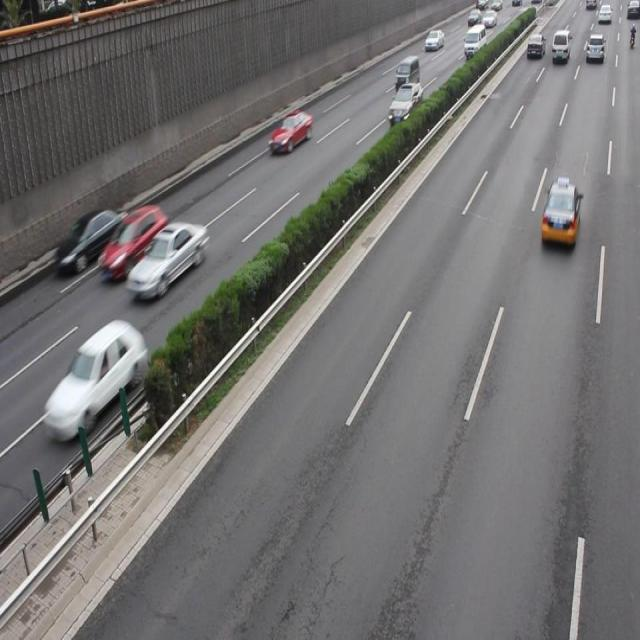car: (44, 322, 146, 442), (125, 220, 208, 299), (97, 203, 166, 284), (53, 207, 128, 275), (539, 180, 580, 249), (268, 110, 312, 154), (387, 81, 423, 126)
